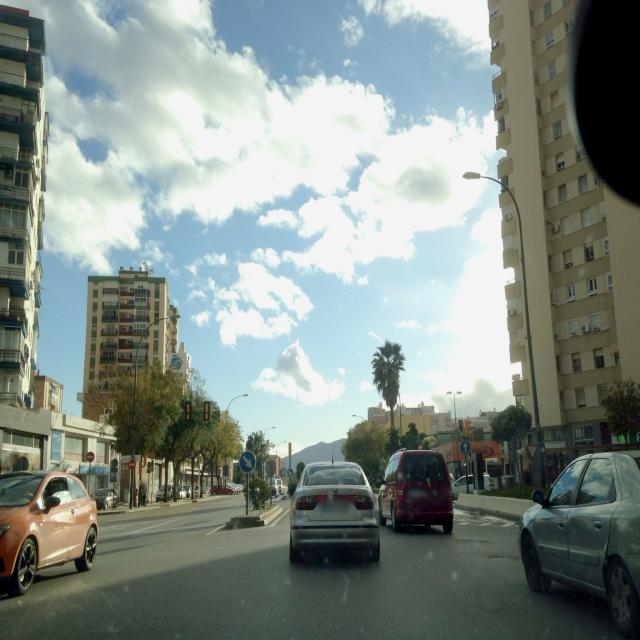car: (518, 447, 640, 639), (0, 468, 99, 598), (288, 461, 381, 565), (377, 448, 455, 535), (93, 488, 119, 510), (155, 484, 178, 503)
